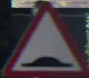Speed Breaker ahead: (8, 9, 74, 68)
